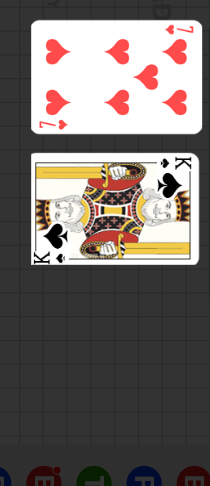7H: (163, 24, 195, 37)
KS: (157, 155, 193, 171)
